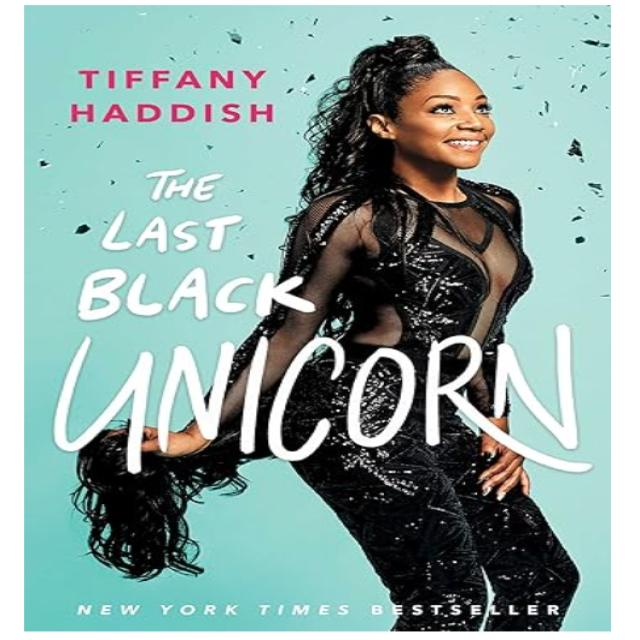titles-or-authors: (52, 163, 591, 482), (54, 62, 283, 130)
